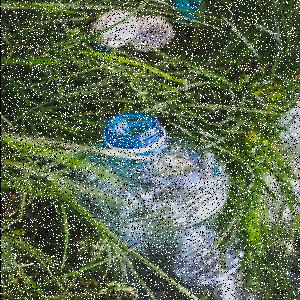Plastic-bottle: (80, 113, 232, 300)
